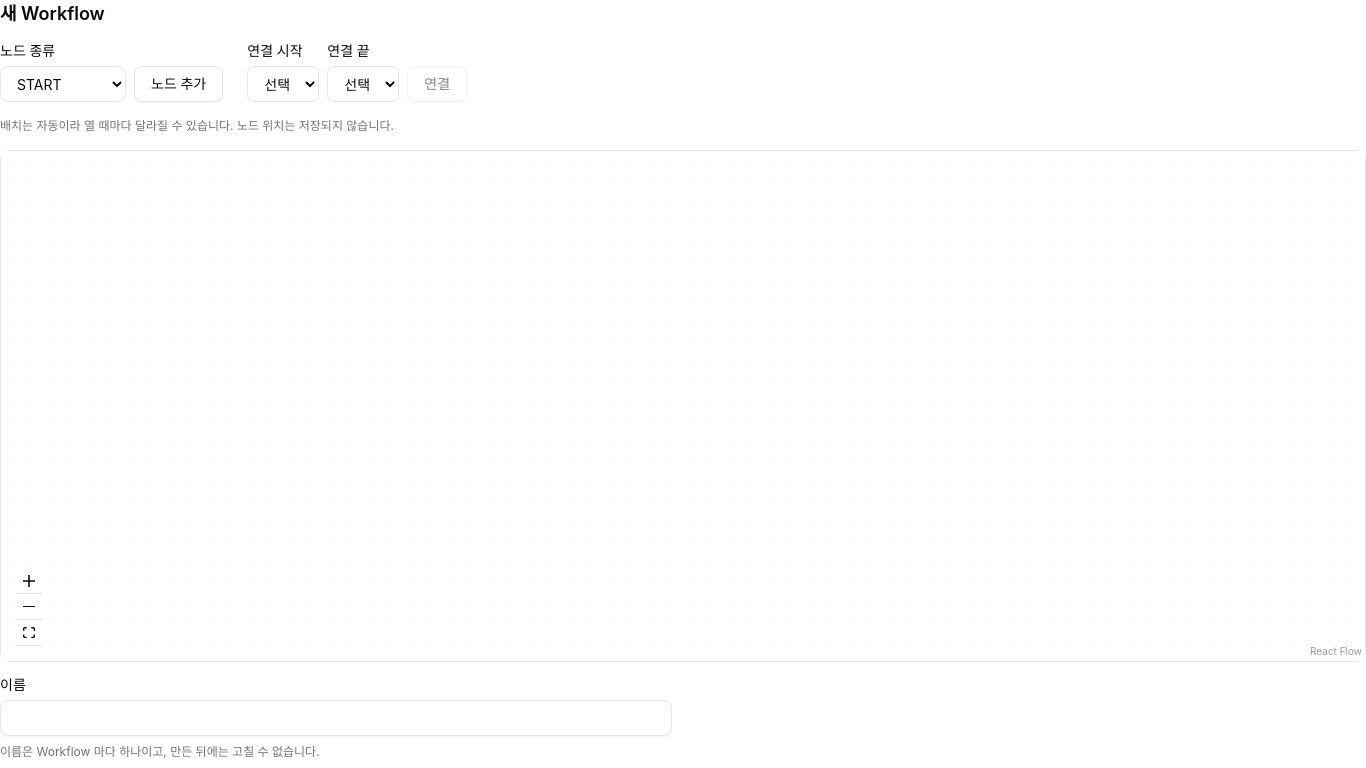
Test: WorkflowEditor - 그리기 (spec 0007 R-3·D-9; DESIGN 5·6절) › 노드를 지우면 그 노드에 닿은 연결도 함께 사라진다
Select "START" in the dropdown labelled "노드 종류" at [63, 84], box [0,66,126,102]
Click the button "노드 추가".
click(179, 84)  # box [134,66,223,102]
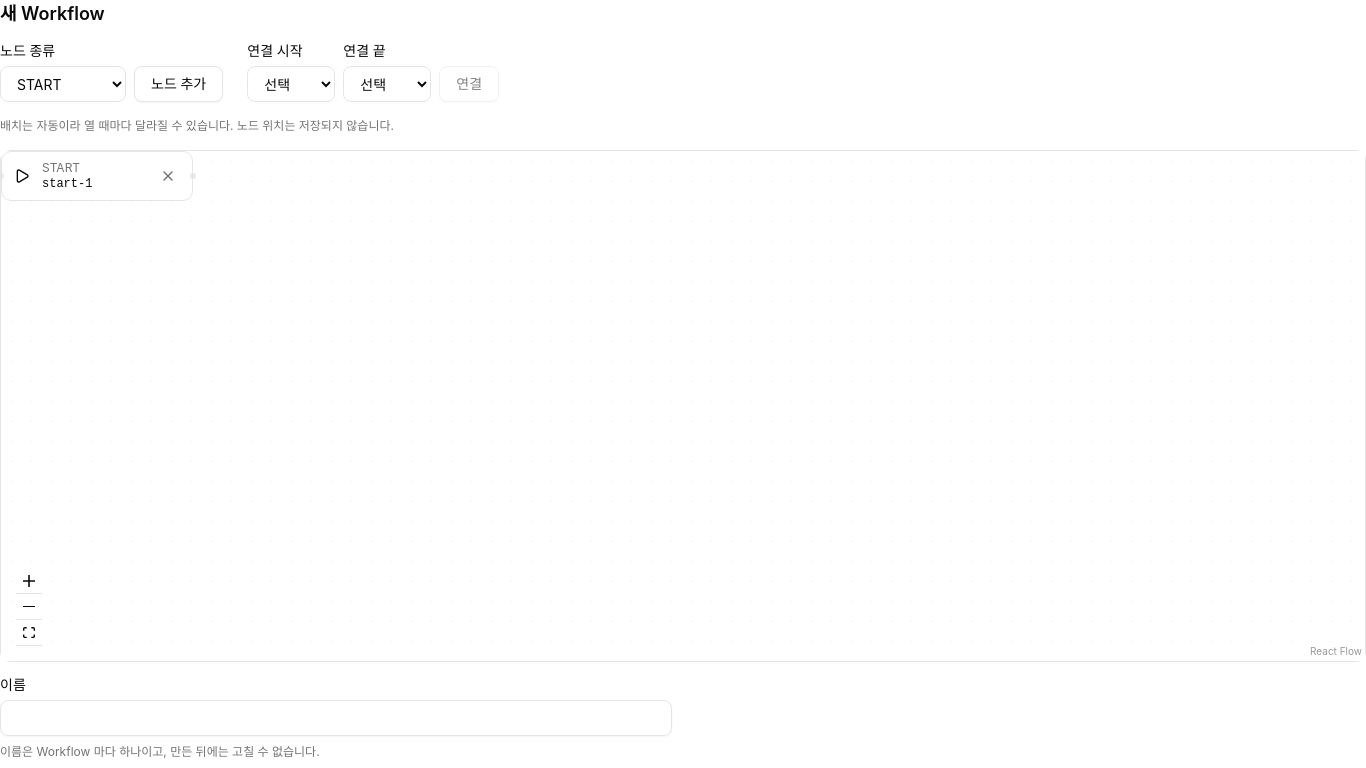
Select "END" in the dropdown labelled "노드 종류" at [63, 84], box [0,66,126,102]
Click the button "노드 추가".
click(179, 84)  # box [134,66,223,102]
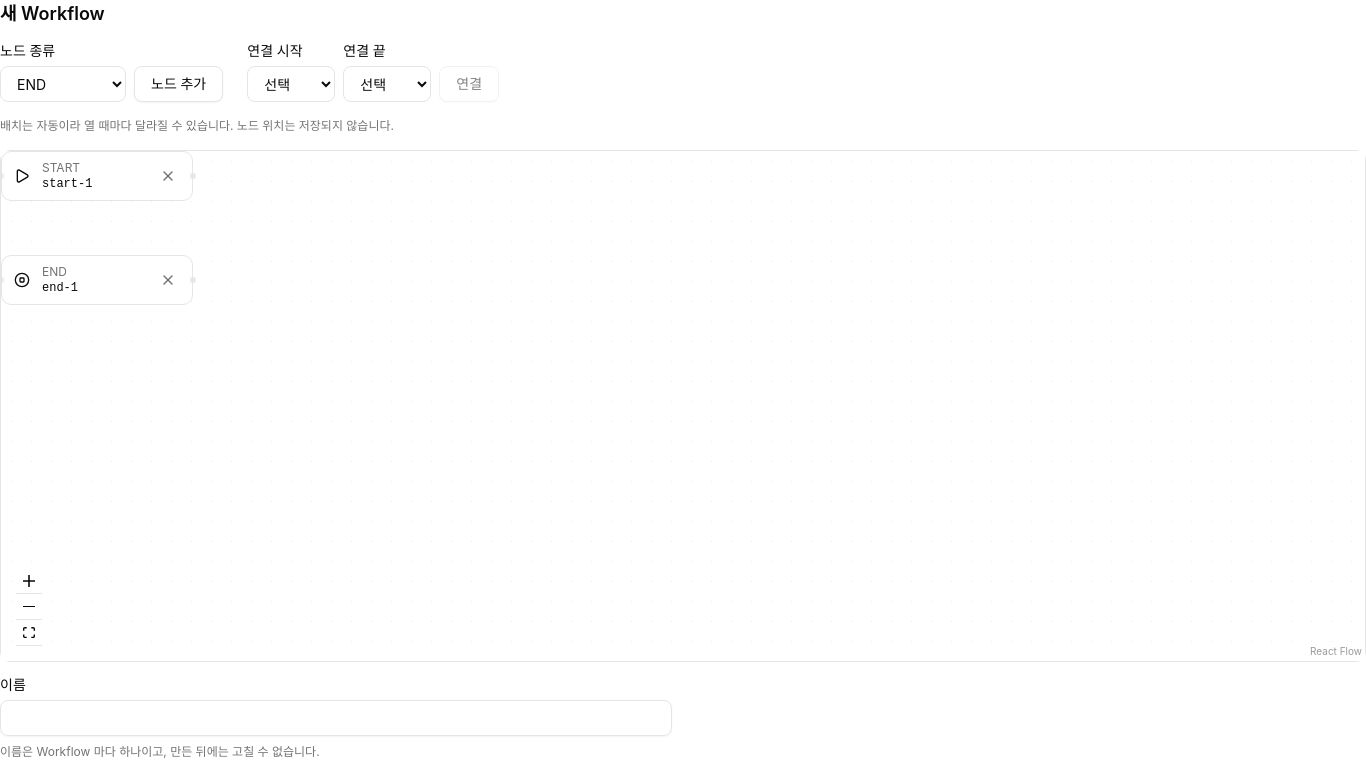
Select "start-1" in the dropdown labelled "연결 시작" at [291, 84], box [247,66,335,102]
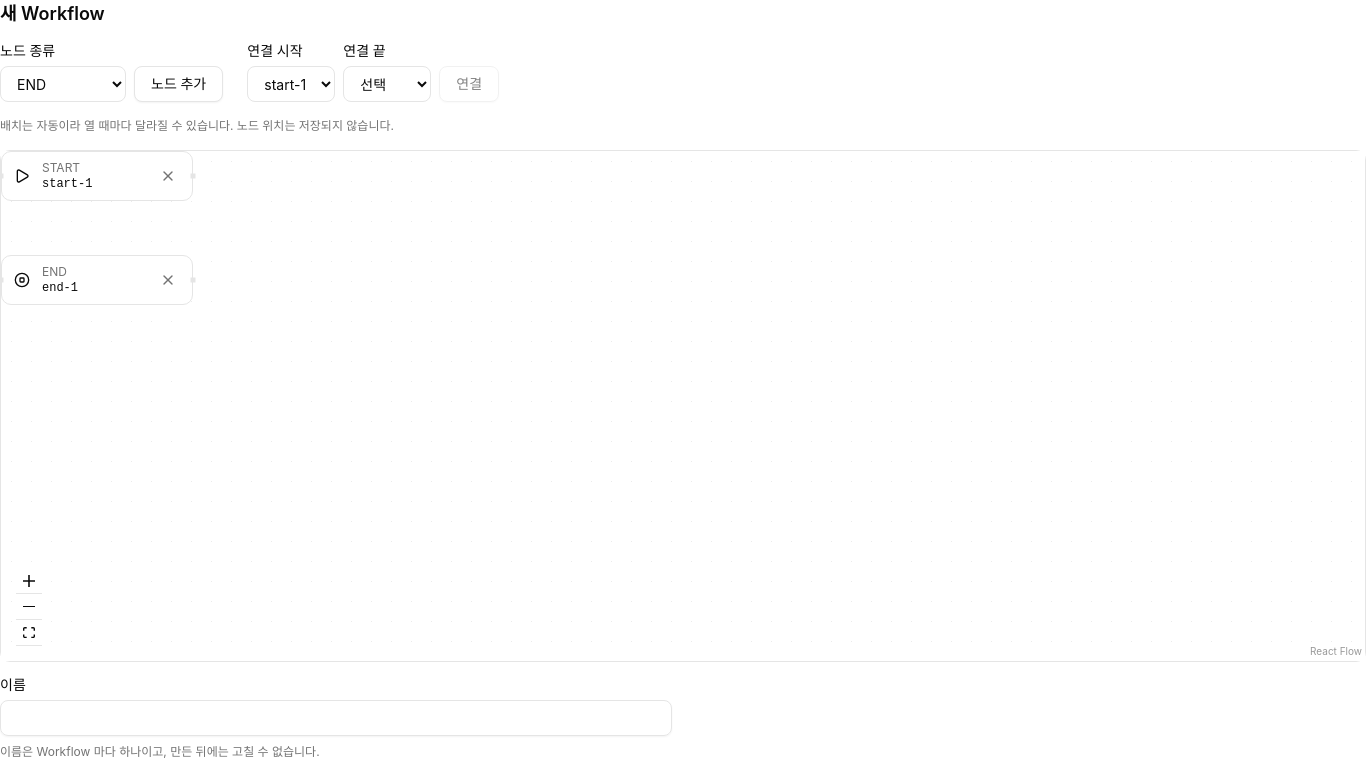
Select "end-1" in the dropdown labelled "연결 끝" at [387, 84], box [343,66,431,102]
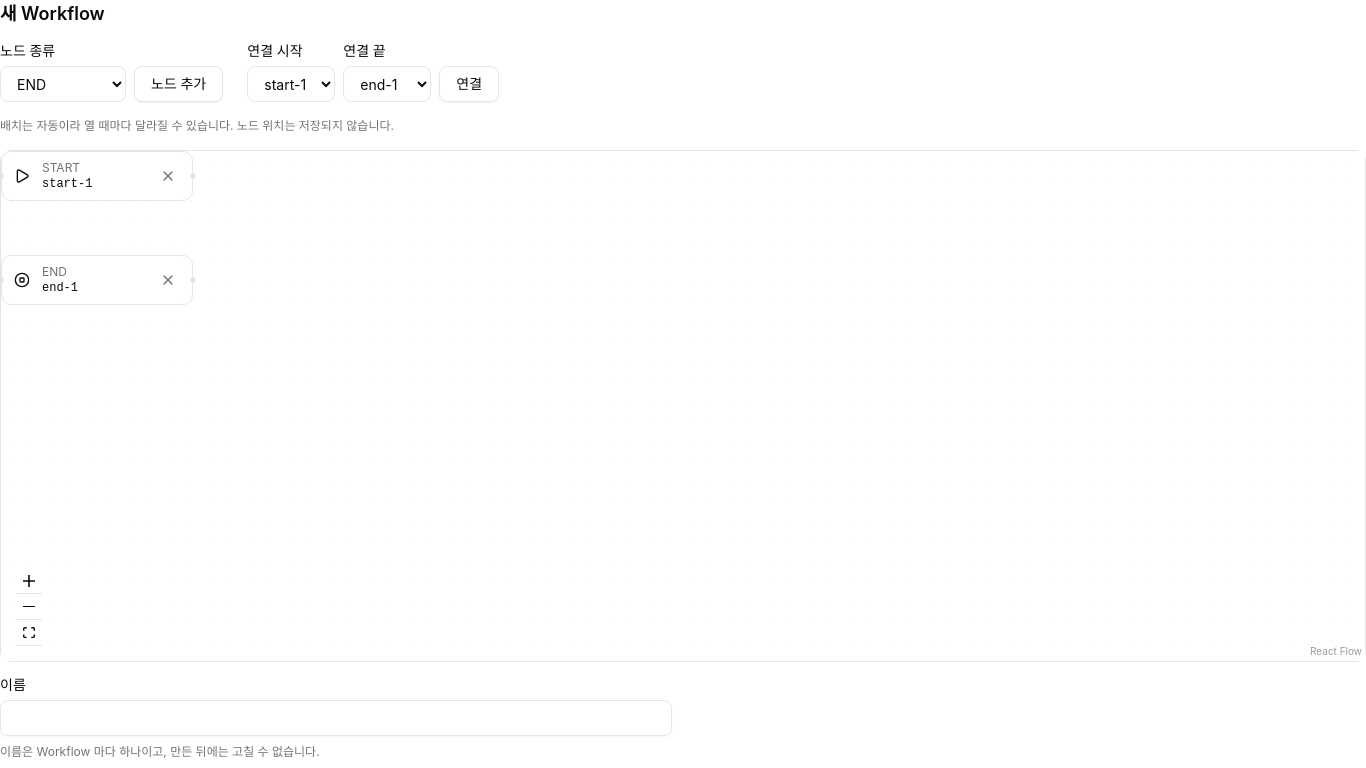
Click the button "연결".
click(469, 84)  # box [439,66,499,102]
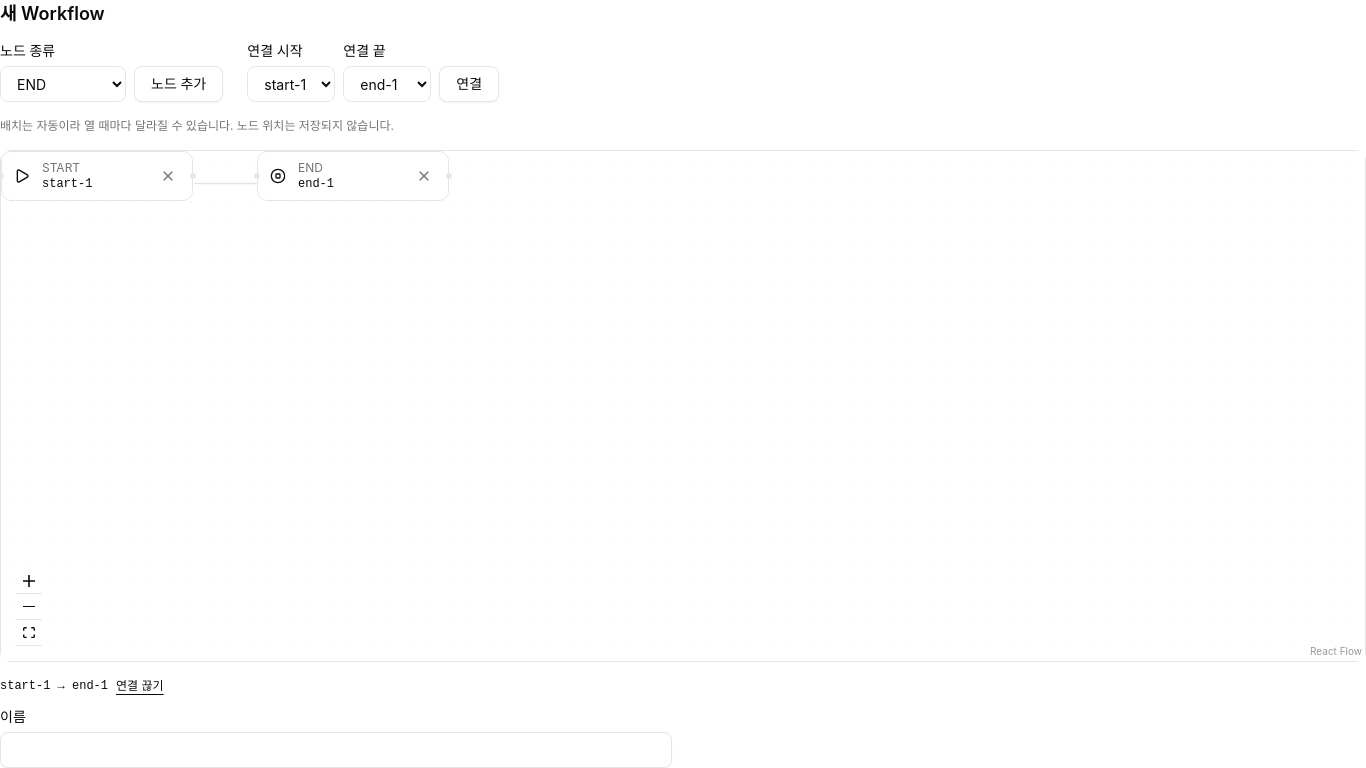
Result: the number of buttons "연결 끊기" is 1 at [116,678,164,694]
Click the button named "삭제".
click(424, 176)  # box [412,164,436,188]
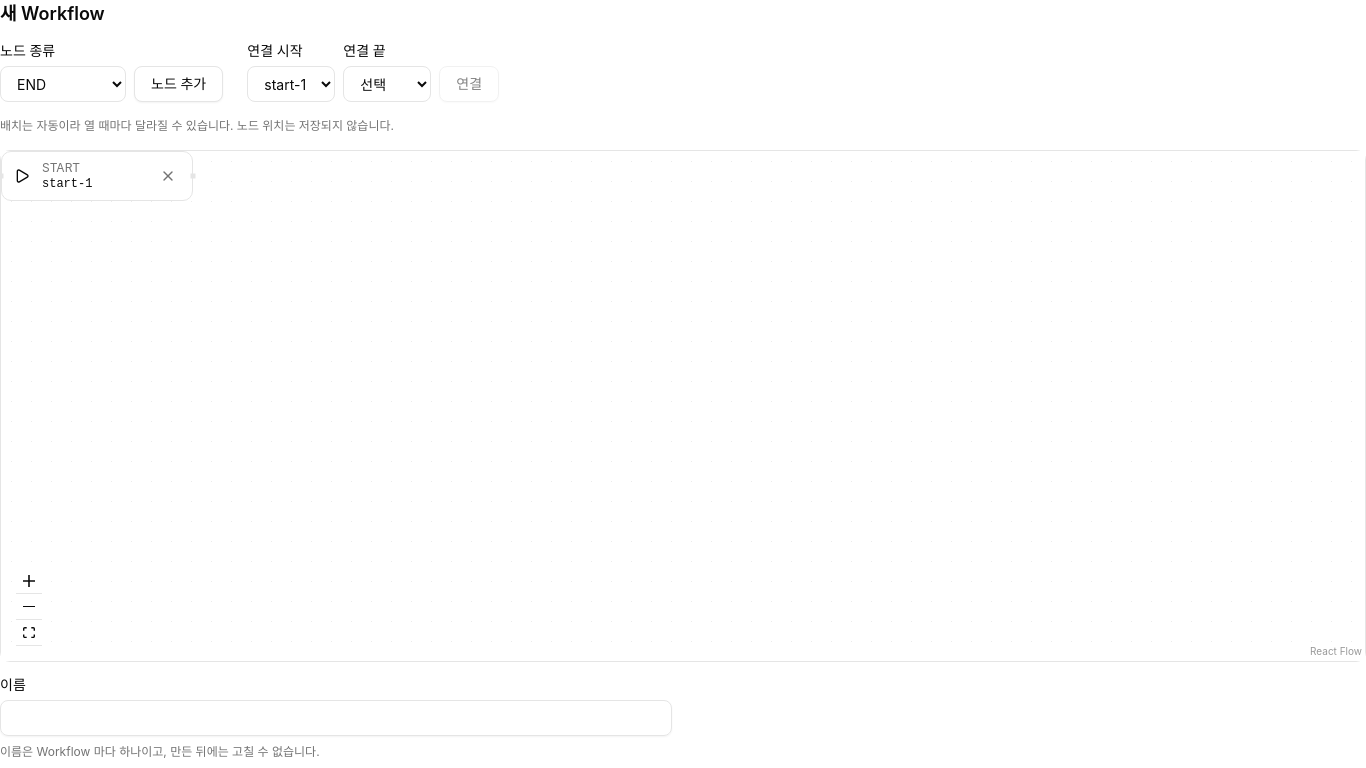
Result: no buttons "연결 끊기" are shown
